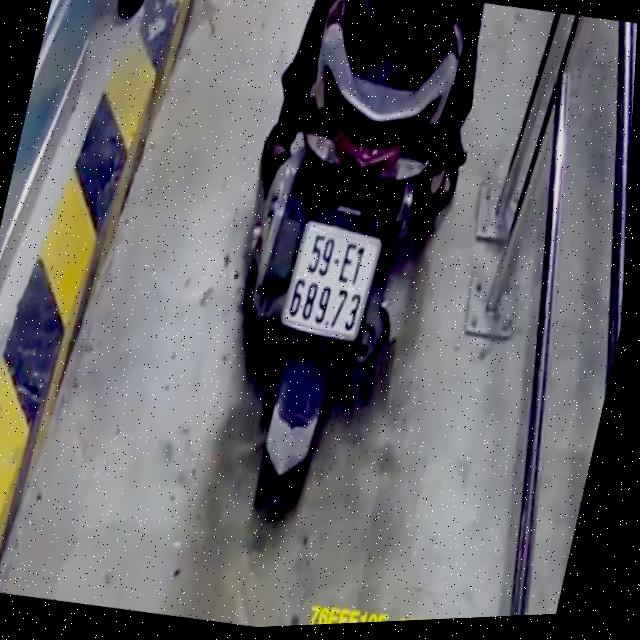motorcycle: (195, 0, 479, 524)
plate: (274, 212, 386, 348)
